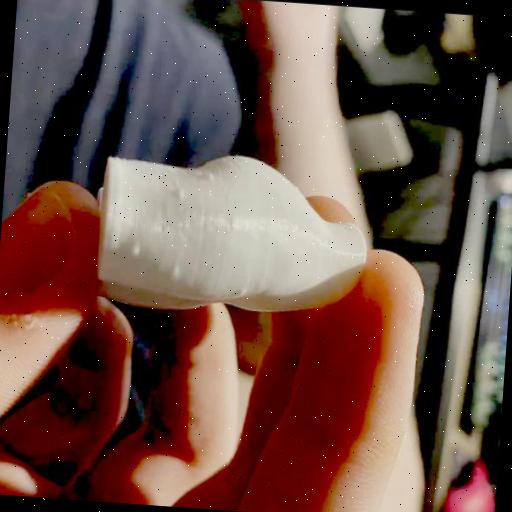blobs: (166, 261, 188, 280), (127, 236, 146, 258), (172, 184, 188, 204), (227, 216, 243, 232), (204, 167, 219, 184), (238, 280, 250, 298)
